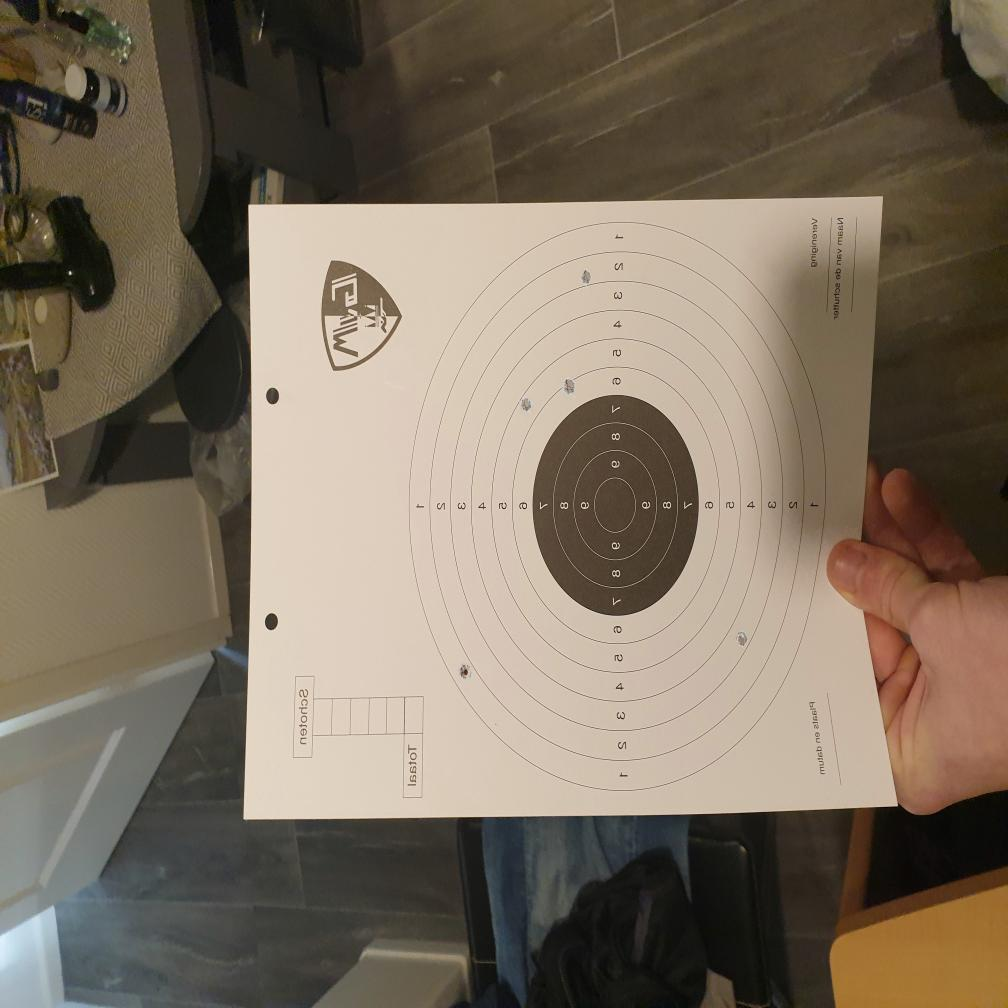1: (458, 662, 472, 679)
3: (581, 268, 592, 289), (735, 630, 748, 646)
5: (519, 396, 533, 416)
6: (562, 377, 576, 398)
Target: (407, 224, 826, 795)
black_contour: (532, 396, 699, 616)
